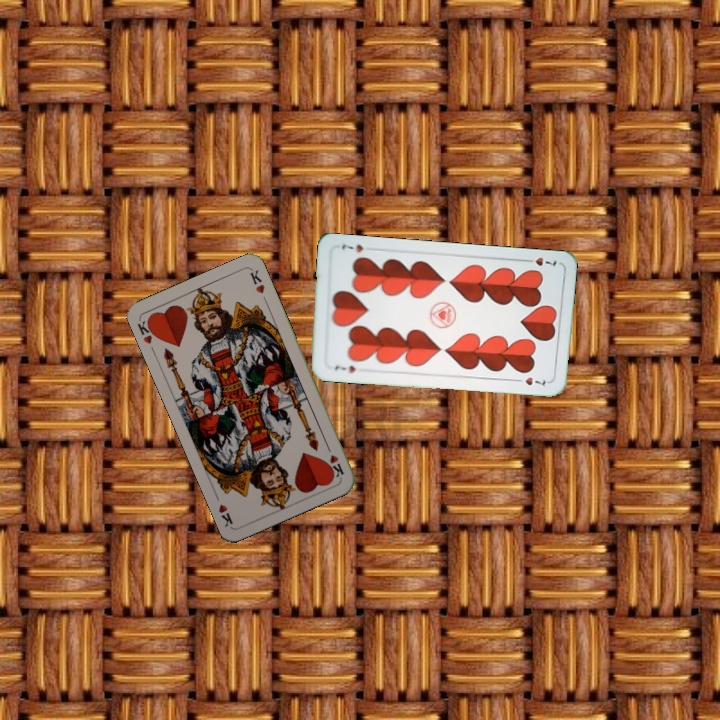H7: (520, 253, 560, 269), (331, 361, 358, 375)
HK: (322, 440, 346, 480), (133, 314, 159, 347)
